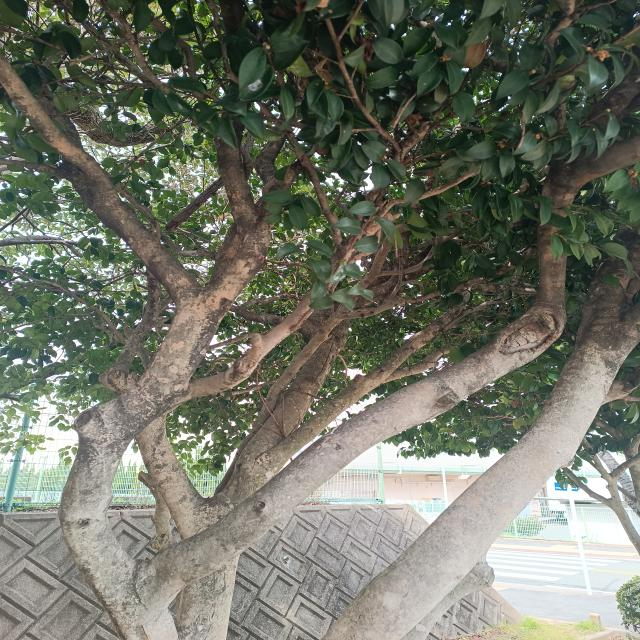Branch: (129, 131, 640, 597), (58, 169, 284, 593), (0, 53, 201, 305), (271, 289, 472, 470), (220, 295, 350, 505), (100, 272, 202, 515), (214, 1, 256, 227), (254, 113, 303, 182)
Twig: (248, 204, 424, 438), (190, 208, 395, 395)
